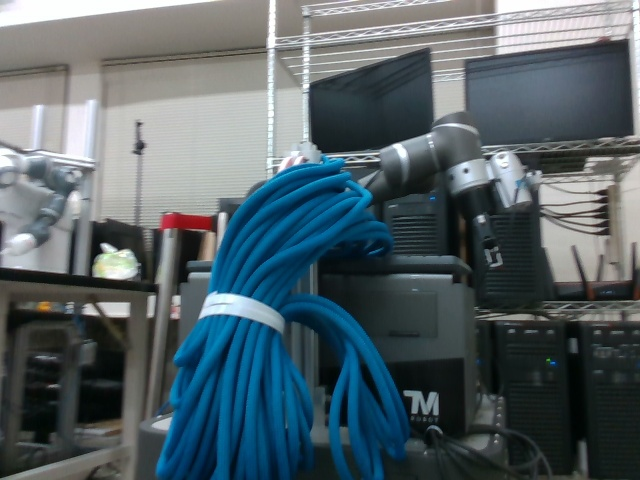rope: (153, 153, 413, 480)
